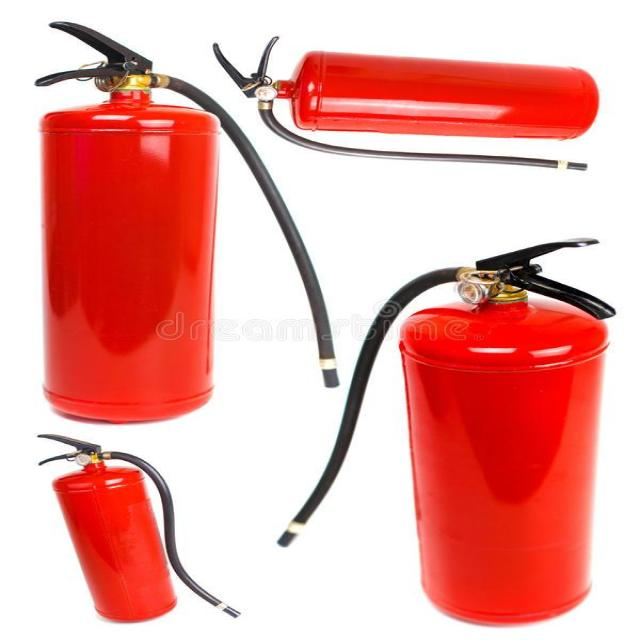fire_extinguisher: (260, 234, 623, 630), (22, 16, 345, 427), (199, 31, 606, 172), (27, 431, 247, 627)
